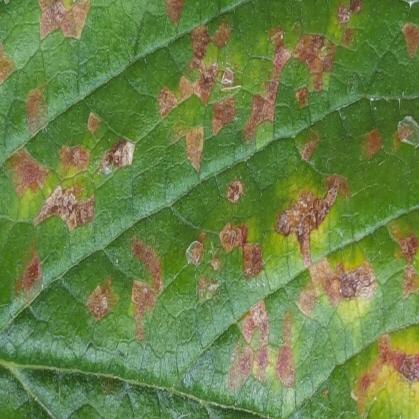Angular Leafspot: (0, 0, 418, 418)
